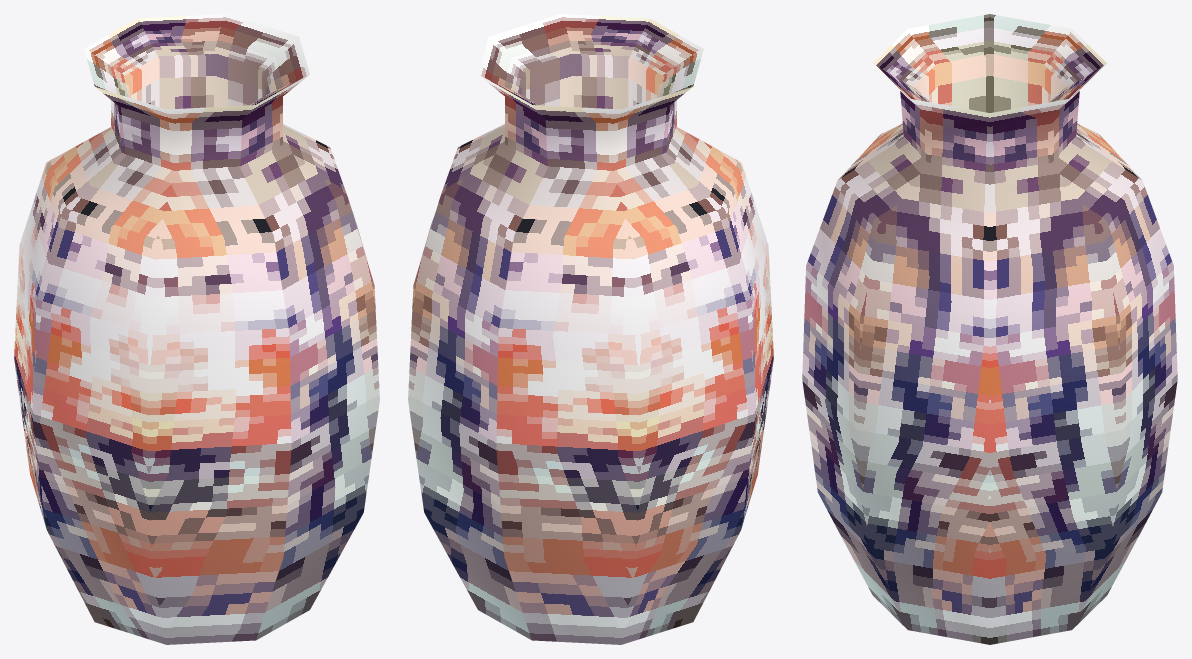
The model's file is otubo4.glb.
3 views of the same model, side by side, from view 1: azimuth 30°, elevation 25°; view 2: azimuth 150°, elevation 25°; view 3: azimuth 270°, elevation 25° (orthographic).
Visible parts, largest first — view 1: otubo4; view 2: otubo4; view 3: otubo4.
Part boxes in pixels (bbox=[...]): otubo4: bbox=[14, 14, 379, 644]; otubo4: bbox=[408, 14, 773, 644]; otubo4: bbox=[802, 14, 1177, 644].
Size of the model in its own units: 96 by 151 by 96.
Materials: 1 (1 with a texture image).
